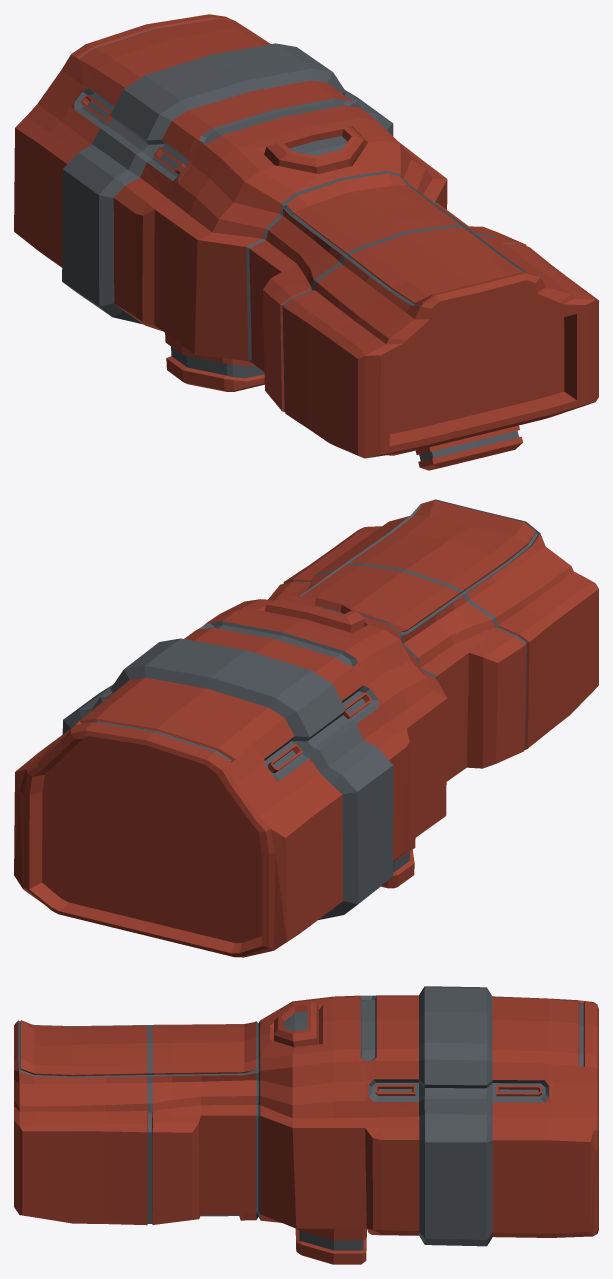
File: Fighter_10_Rear_Body_Red.fbx
The picture shows the model from 3 angles, top to bottom: view 1: azimuth 30°, elevation 25°; view 2: azimuth 150°, elevation 25°; view 3: azimuth 270°, elevation 25°; orthographic projection. The views are drawn at different scales.
Parts seen in each view (by area): view 1: Fighter_10_Rear_Body_Red; view 2: Fighter_10_Rear_Body_Red; view 3: Fighter_10_Rear_Body_Red.
Boxes of the visible parts, x1,y1,x2,y2 form: Fighter_10_Rear_Body_Red: (14,14,598,470); Fighter_10_Rear_Body_Red: (14,499,598,957); Fighter_10_Rear_Body_Red: (14,986,598,1264).
Bounding box in the file's own units: 1046 × 803 × 2066.
Materials: 2 (2 with a texture image).
